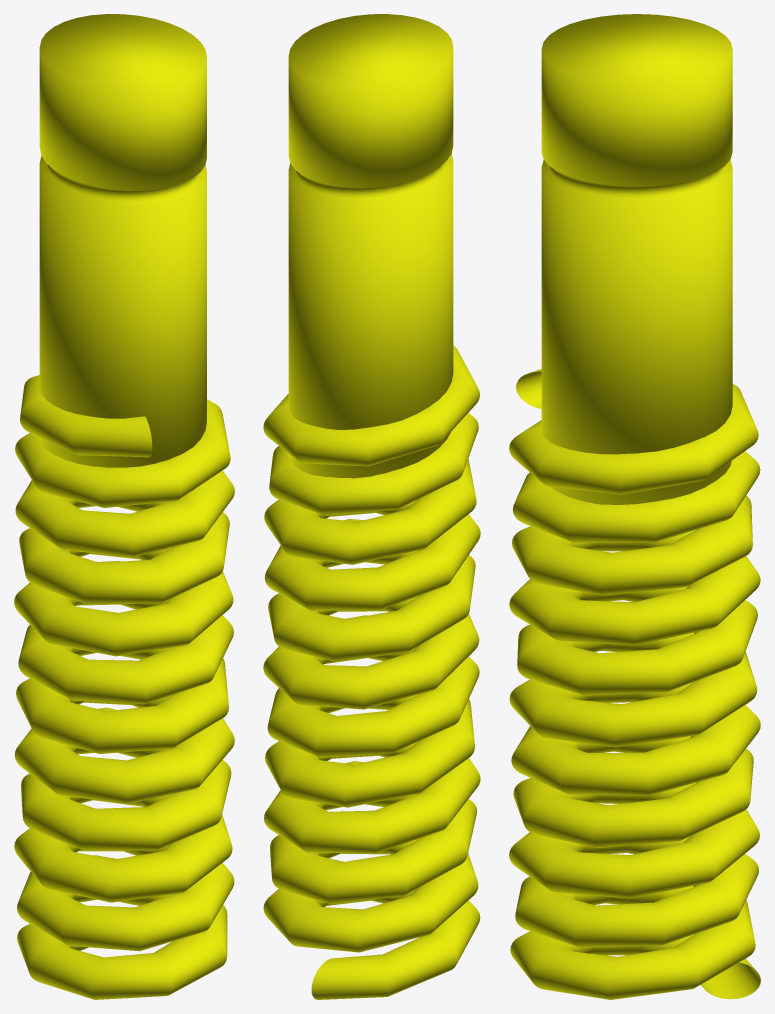
File: SM_spring_pin.glb
3 views of the same model, side by side, from view 1: azimuth 30°, elevation 25°; view 2: azimuth 150°, elevation 25°; view 3: azimuth 270°, elevation 25° (orthographic). The views are drawn at different scales.
Parts seen in each view (by area): view 1: SM_spring_pin; view 2: SM_spring_pin; view 3: SM_spring_pin.
Boxes of the visible parts, <box> form: SM_spring_pin: <box>14,14,234,999</box>; SM_spring_pin: <box>263,14,480,999</box>; SM_spring_pin: <box>509,14,760,999</box>.
Size of the model in its own units: 0.3989 by 1.93 by 0.4629.
